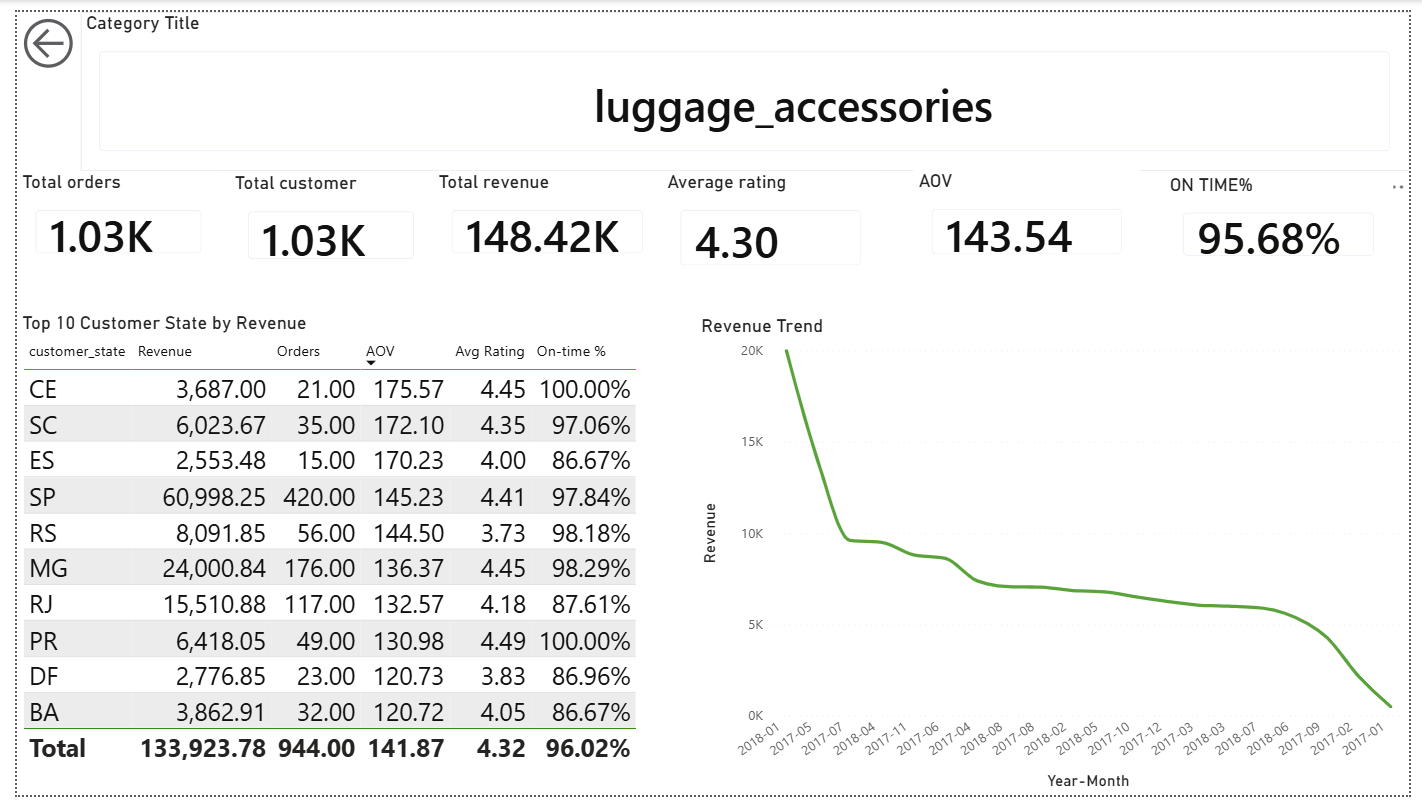

Layout of this report page (visuals, bound fields, positions):
{"tool":"powerbi","page":{"name":"Drillthrough","canvas":[1280,720],"ordinal":8},"visuals":[{"type":"actionButton","box":[0,0,59,57.6],"z":0},{"type":"cardVisual","title":"Category Title","fields":{"Data":["public bi_fact_sales.Drill Title"]},"box":[58.7,0,1221.6,145.5],"z":1000},{"type":"cardVisual","title":"Total revenue","fields":{"Data":["public bi_fact_sales.Revenue"]},"box":[382.7,145.5,210.3,94.2],"z":2000},{"type":"cardVisual","title":"Total orders","fields":{"Data":["public bi_fact_sales.Orders"]},"box":[0,145.5,187.1,94.2],"z":3000},{"type":"cardVisual","title":"AOV","fields":{"Data":["public bi_fact_sales.AOV"]},"box":[824.2,144.3,209.1,95.4],"z":4000},{"type":"cardVisual","title":"ON TIME%","fields":{"Data":["public bi_fact_sales.On-time %"]},"box":[1055.3,148,210.3,94.2],"z":5000},{"type":"cardVisual","title":"Average rating","fields":{"Data":["public bi_fact_sales.Avg Rating"]},"box":[593.1,145.5,200.5,105.2],"z":6000},{"type":"cardVisual","title":"Total customer","fields":{"Data":["public bi_fact_sales.Customers"]},"box":[195.7,146.7,187.1,97.8],"z":7000},{"type":"lineChart","title":"Revenue Trend","fields":{"Category":["DimDate.Year-Month"],"Y":["public bi_fact_sales.Revenue"]},"box":[624.4,278.6,655.9,441.9],"z":8000},{"type":"tableEx","title":"Top 10 Customer State by Revenue","fields":{"Values":["public bi_fact_sales.customer_state","public bi_fact_sales.Revenue","public bi_fact_sales.Orders","public bi_fact_sales.AOV","public bi_fact_sales.Avg Rating","public bi_fact_sales.On-time %"]},"box":[0,275.8,624.4,441.9],"z":9000}]}

Visuals, with their boxes in screenshot pixels (x1, y1, x2, y2), scaled from the page's 1280x720 canvas onto the 1422x802 screenshot:
actionButton: Rect(0, 0, 66, 64)
"Category Title" cardVisual: Rect(65, 0, 1421, 162)
"Total revenue" cardVisual: Rect(425, 162, 659, 267)
"Total orders" cardVisual: Rect(0, 162, 208, 267)
"AOV" cardVisual: Rect(916, 161, 1148, 267)
"ON TIME%" cardVisual: Rect(1172, 165, 1406, 270)
"Average rating" cardVisual: Rect(659, 162, 882, 279)
"Total customer" cardVisual: Rect(217, 163, 425, 272)
"Revenue Trend" lineChart: Rect(694, 310, 1421, 801)
"Top 10 Customer State by Revenue" tableEx: Rect(0, 307, 694, 799)
